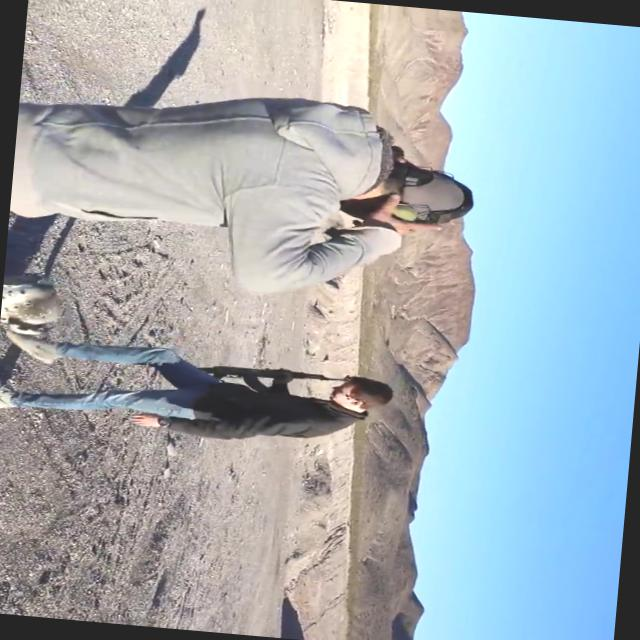long weapon: (178, 354, 360, 404)
